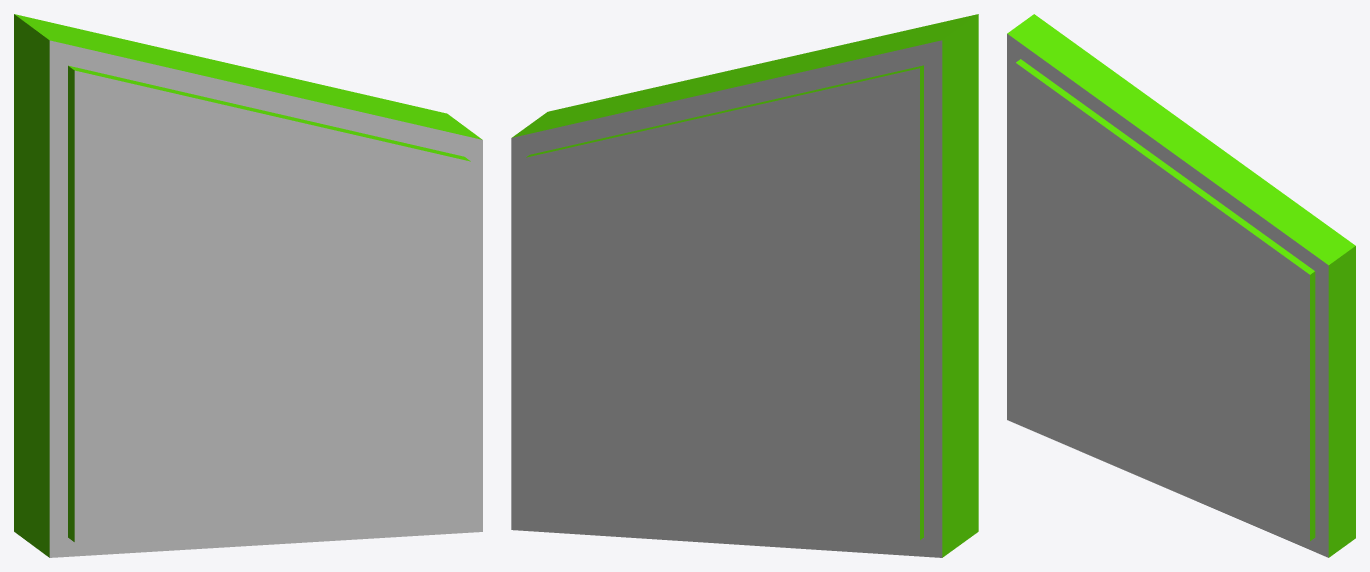
File: altk_lv5.fbx
3 views of the same model, side by side, from view 1: azimuth 30°, elevation 25°; view 2: azimuth 150°, elevation 25°; view 3: azimuth 330°, elevation 25° (orthographic). The views are drawn at different scales.
Visible parts, largest first — view 1: altk_lv5; view 2: altk_lv5; view 3: altk_lv5.
Part boxes in pixels (box(x1,y1,x2,y2)): altk_lv5: box(14, 14, 482, 557); altk_lv5: box(511, 14, 978, 557); altk_lv5: box(1007, 14, 1355, 557).
Bounding box in the file's own units: 103 × 135 × 19.71.
